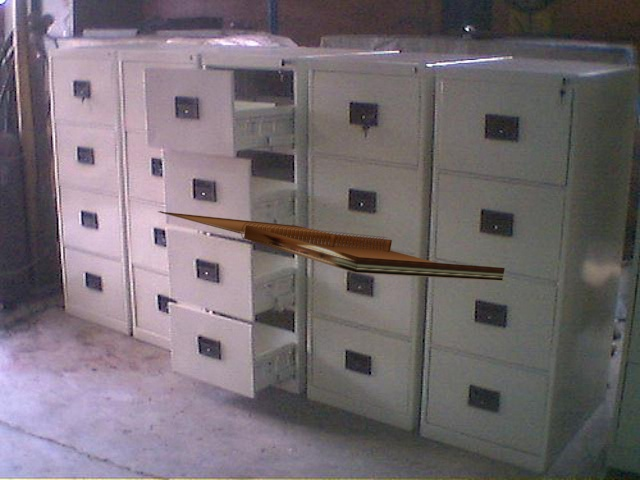paper_notebook: (153, 208, 512, 288)
